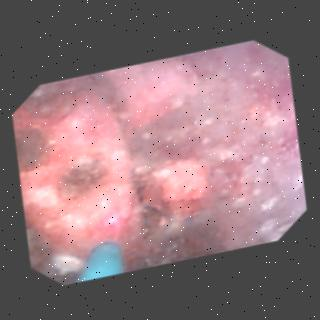fiber: (79, 244, 125, 280)
stone: (16, 78, 150, 257), (106, 60, 198, 131), (147, 163, 208, 220)
tissue: (144, 45, 304, 262)
